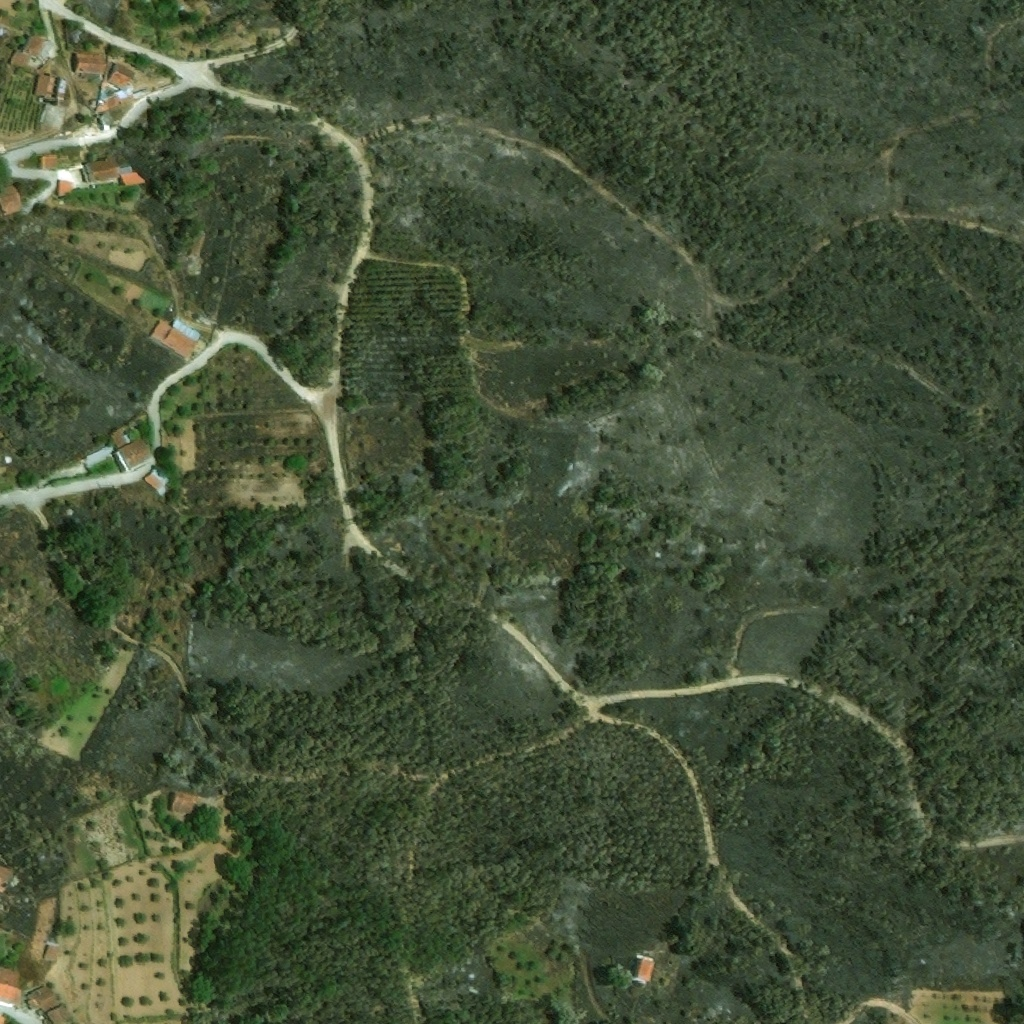0 no-damage: (148, 319, 200, 361), (81, 425, 133, 466), (8, 31, 55, 73), (111, 436, 154, 474), (21, 982, 61, 1012), (0, 181, 26, 220), (80, 157, 120, 182), (35, 72, 68, 101), (0, 969, 26, 1005), (107, 61, 137, 92), (71, 52, 109, 74), (142, 467, 170, 496), (119, 163, 148, 187), (167, 792, 196, 815), (42, 936, 64, 965), (634, 958, 657, 981), (45, 1005, 73, 1023), (57, 180, 76, 197), (41, 153, 61, 169), (24, 65, 37, 76)
4 un-classified: (0, 1015, 7, 1023)
